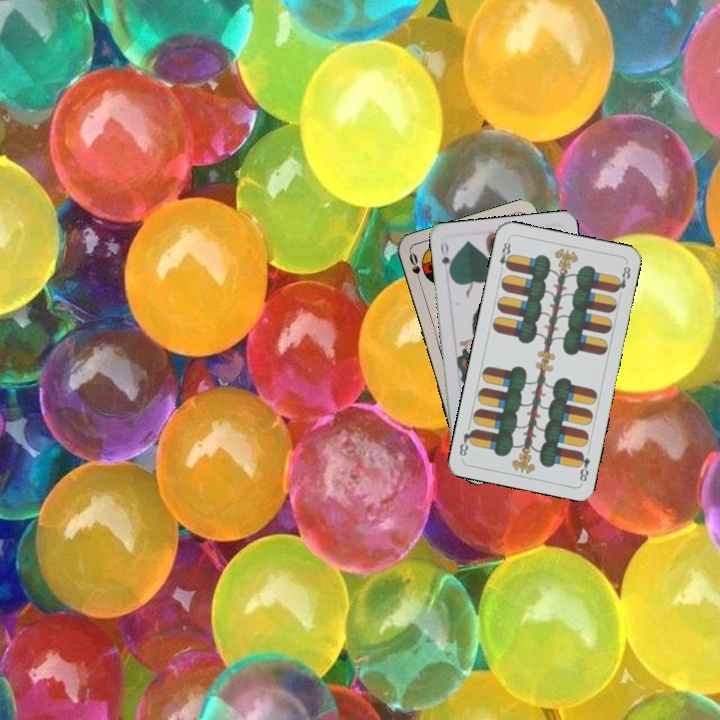E8: (495, 236, 514, 276), (573, 447, 593, 484)
GO: (437, 238, 455, 278)
SO: (405, 248, 424, 288)
